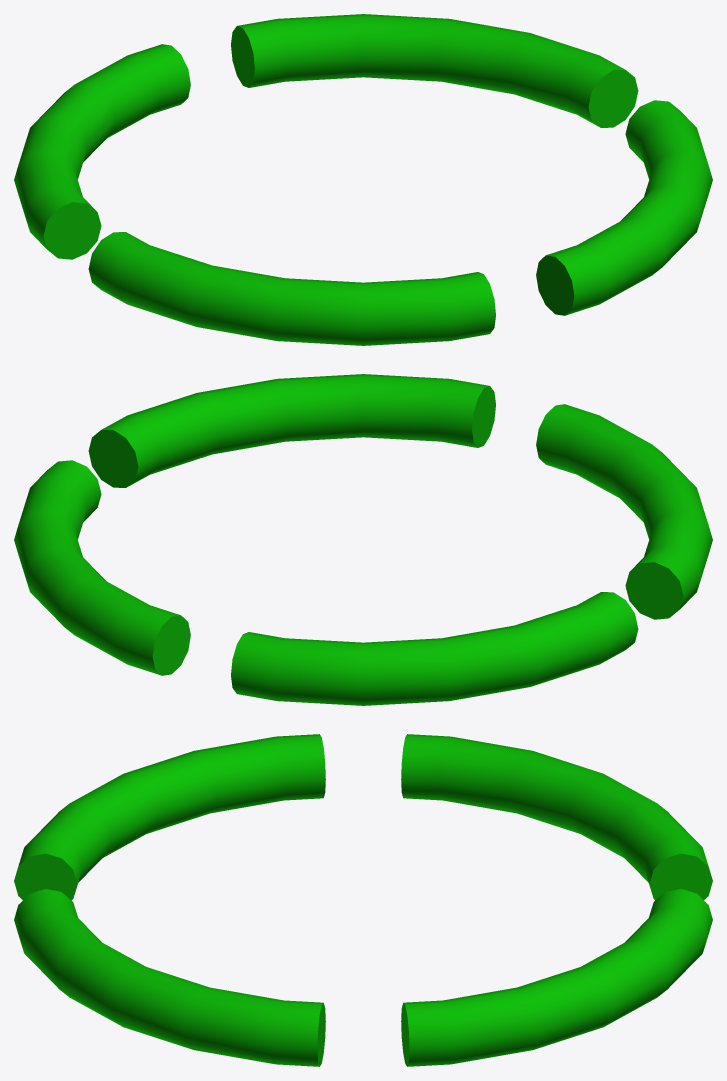
Rendered from GizmoYRotation.fbx.
3 renders of one model, top to bottom at view 1: azimuth 30°, elevation 25°; view 2: azimuth 150°, elevation 25°; view 3: azimuth 270°, elevation 25°, orthographic.
Parts seen in each view (by area): view 1: Torus.001; view 2: Torus.001; view 3: Torus.001.
Part boxes in pixels (x1,y1,x2,y2): Torus.001: (14, 14, 712, 345); Torus.001: (14, 374, 712, 705); Torus.001: (14, 734, 712, 1066).
Size of the model in its own units: 216 by 20 by 216.
